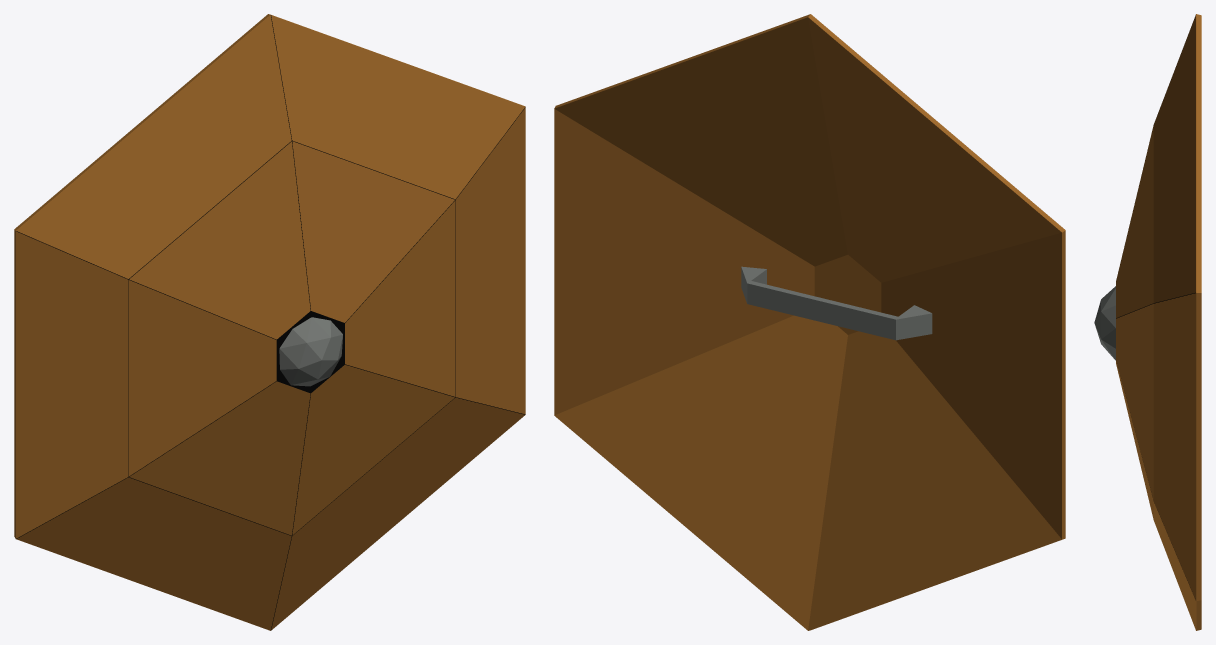
Rendered from SHIELD.fbx.
3 renders of one model, left to right at view 1: azimuth 30°, elevation 25°; view 2: azimuth 150°, elevation 25°; view 3: azimuth 270°, elevation 25°, orthographic.
Visible parts, largest first — view 1: Cone; view 2: Cone; view 3: Cone.
Part boxes in pixels (<box>): Cone: <box>14,14,525,630</box>; Cone: <box>554,14,1065,630</box>; Cone: <box>1094,14,1201,630</box>.
Bounding box in the file's own units: 51.95 × 59.99 × 9.46.
